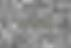five: (27, 19, 31, 27)
nine: (17, 18, 21, 27)
one: (37, 20, 41, 28), (42, 20, 46, 28)
six: (32, 19, 36, 28)
two: (22, 19, 26, 27)
zero: (47, 20, 51, 29)
